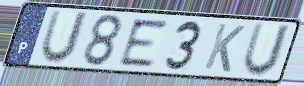3: (162, 19, 203, 72)
8: (81, 13, 124, 68)
E: (117, 18, 170, 68)
K: (201, 21, 247, 74)
U: (37, 8, 92, 67), (240, 21, 294, 80)
